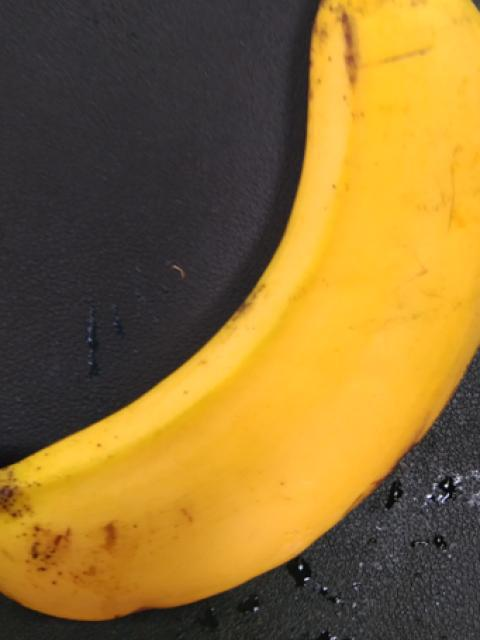freshripe: (8, 0, 479, 628)
